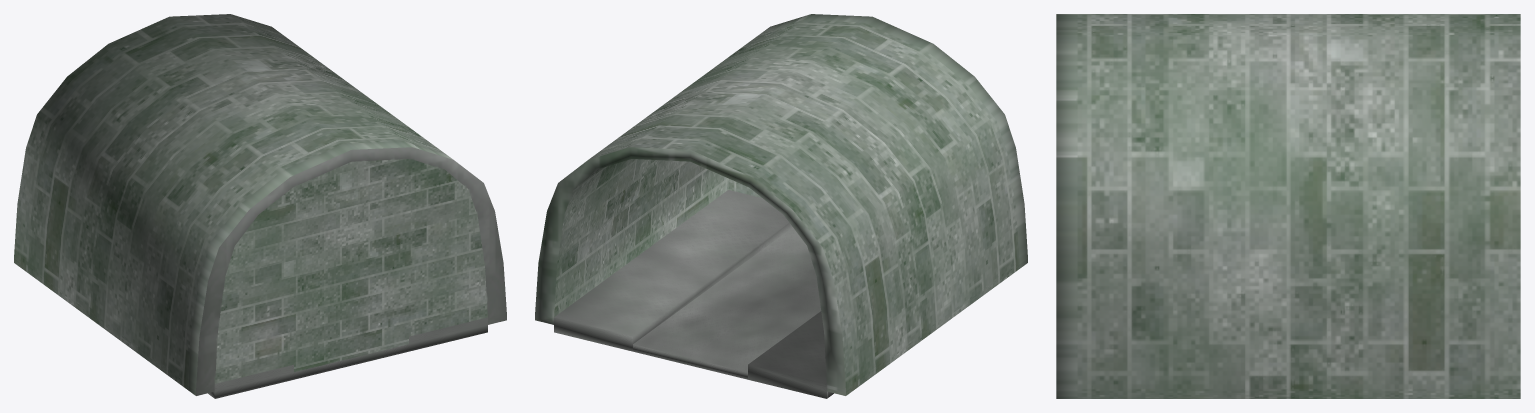
Rendered from Tunnel_End.glb.
The picture shows the model from 3 angles, left to right: view 1: azimuth 30°, elevation 25°; view 2: azimuth 150°, elevation 25°; view 3: azimuth 270°, elevation 25°; orthographic projection. The views are drawn at different scales.
Visible parts, largest first — view 1: Tunnel_Straight_END; view 2: Tunnel_Straight_END; view 3: Tunnel_Straight_END.
Part boxes in pixels (left/top/right/bottom): Tunnel_Straight_END: left=14, top=14, right=506, bottom=398; Tunnel_Straight_END: left=535, top=14, right=1027, bottom=398; Tunnel_Straight_END: left=1056, top=14, right=1520, bottom=398.
Bounding box in the file's own units: 21.94 × 14.56 × 22.25.
1 material, 1 textured.
